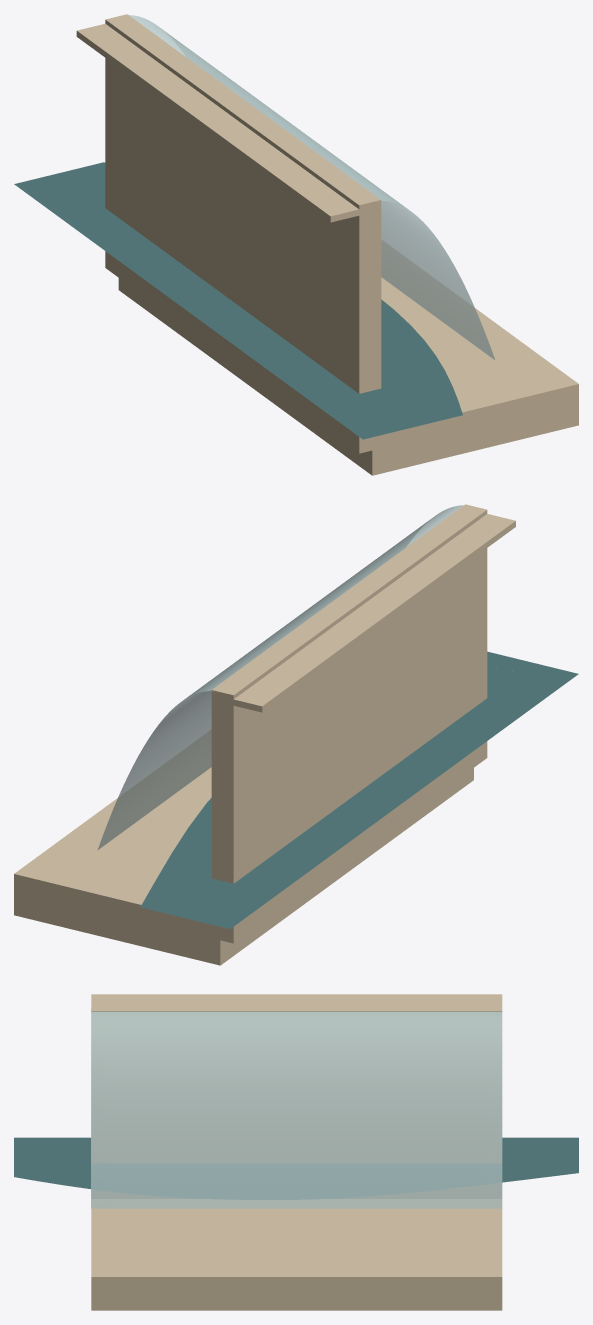
File: waterfall.glb
3 renders of one model, top to bottom at view 1: azimuth 30°, elevation 25°; view 2: azimuth 150°, elevation 25°; view 3: azimuth 270°, elevation 25°, orthographic. The views are drawn at different scales.
Visible parts, largest first — view 1: part_00003, part_00002, part_00000, part_00004, part_00001; view 2: part_00003, part_00002, part_00000, part_00004, part_00001; view 3: part_00004, part_00003, part_00002, part_00000, part_00001.
Part boxes in pixels (left/top/right/bottom): part_00003: left=105, top=14, right=381, bottom=453; part_00002: left=118, top=240, right=578, bottom=475; part_00000: left=14, top=162, right=462, bottom=439; part_00004: left=129, top=15, right=494, bottom=359; part_00001: left=76, top=23, right=381, bottom=222; part_00003: left=211, top=504, right=487, bottom=943; part_00002: left=14, top=730, right=473, bottom=965; part_00000: left=140, top=651, right=578, bottom=928; part_00004: left=97, top=505, right=463, bottom=850; part_00001: left=211, top=514, right=515, bottom=712; part_00004: left=91, top=1007, right=502, bottom=1208; part_00003: left=91, top=1002, right=502, bottom=1198; part_00002: left=91, top=1199, right=502, bottom=1310; part_00000: left=14, top=1137, right=578, bottom=1199; part_00001: left=91, top=994, right=502, bottom=1018.
Size of the model in its own units: 1.2 by 1.19 by 2.75.
